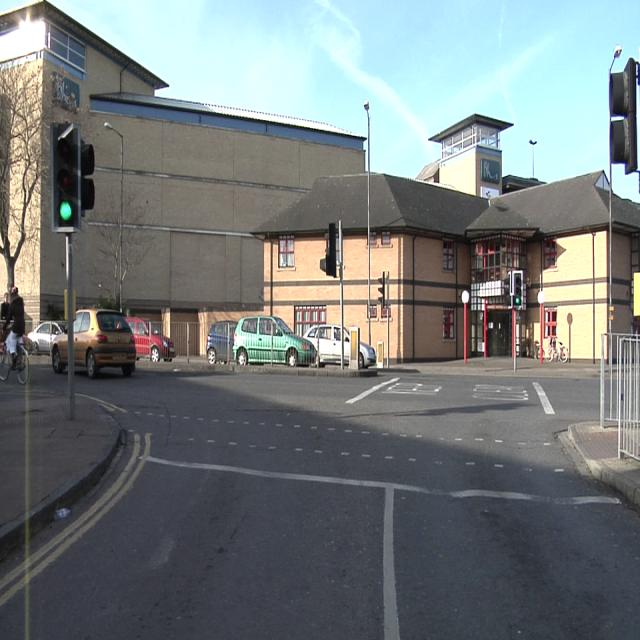Bicyclist: (0, 287, 29, 384)
Building: (0, 2, 365, 331), (370, 115, 609, 361), (255, 173, 368, 339), (612, 195, 640, 332)
Car: (74, 308, 175, 378), (206, 315, 341, 366), (29, 322, 68, 372), (360, 343, 375, 368), (342, 328, 350, 363)
Road: (31, 360, 640, 638)
Tree: (0, 65, 42, 288)
